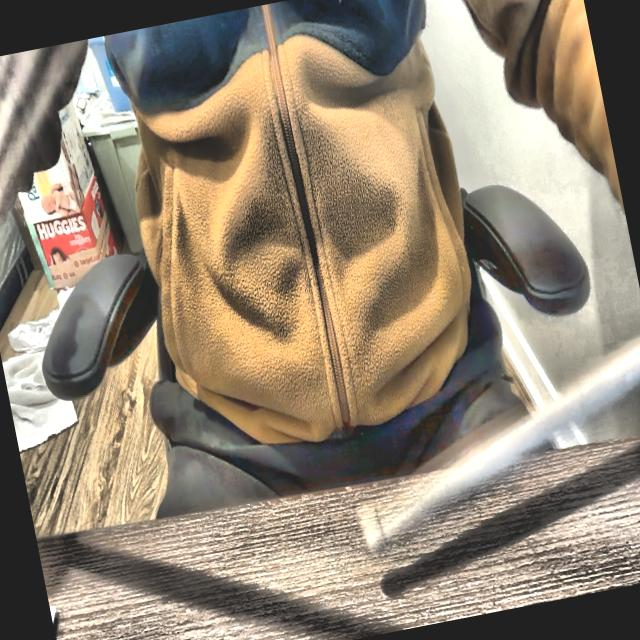Drumstick-Heads: (346, 502, 393, 562)
